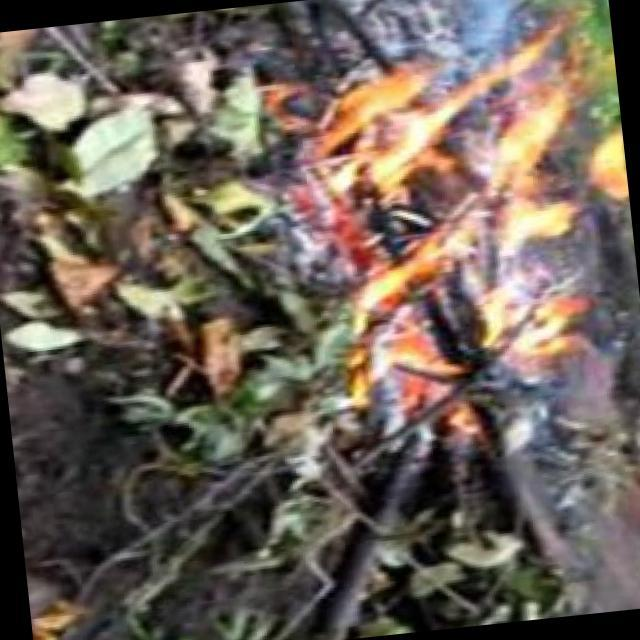Fire: (315, 13, 580, 271), (338, 269, 465, 406), (444, 274, 593, 358)
